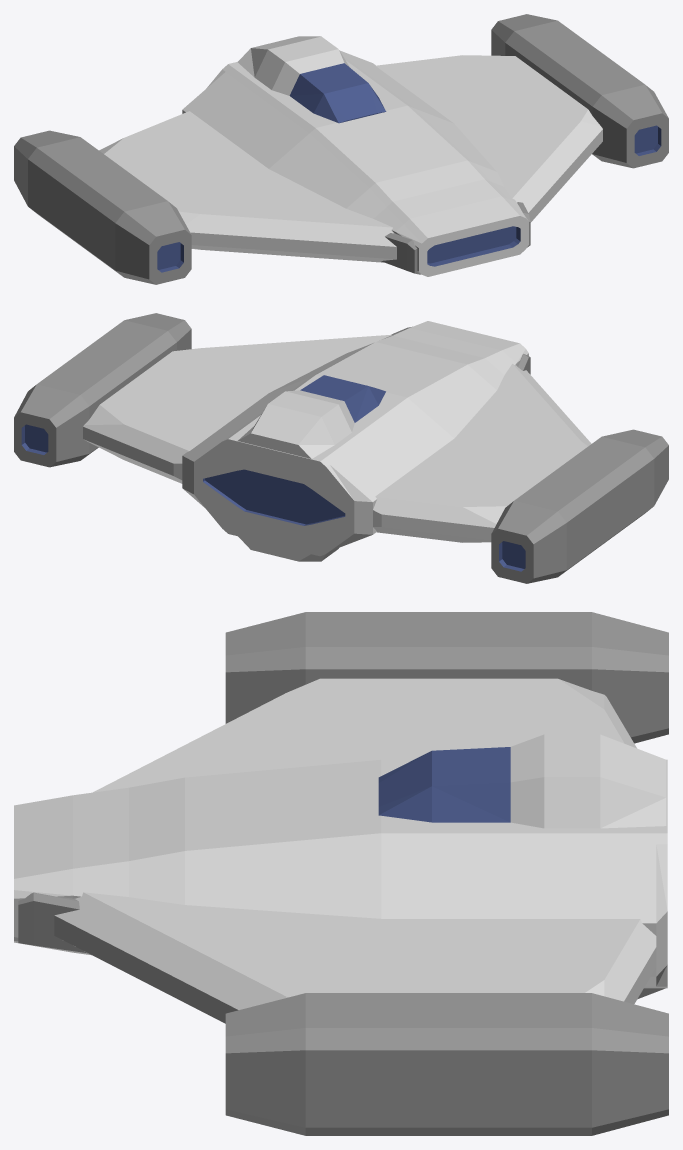
The model's file is hull_manta.obj.
3 views of the same model, one above another, from view 1: azimuth 30°, elevation 25°; view 2: azimuth 150°, elevation 25°; view 3: azimuth 270°, elevation 25° (orthographic). The views are drawn at different scales.
Size of the model in its own units: 3.63 by 0.93 by 2.34.
